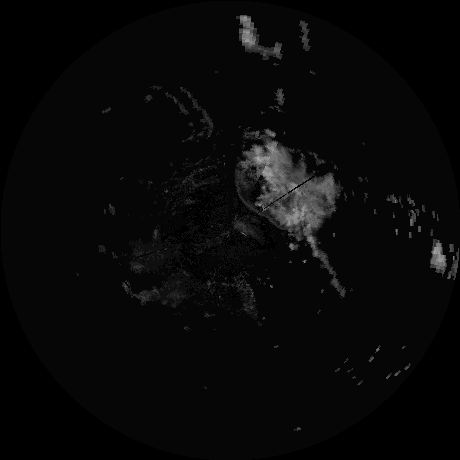frontgust: (234, 168, 289, 234)
